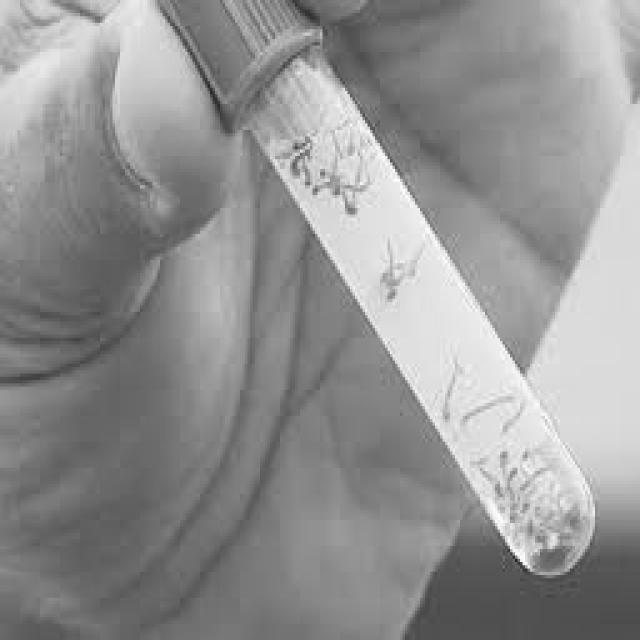larvas: (442, 363, 458, 422), (464, 399, 509, 419), (482, 468, 504, 498), (520, 467, 546, 492), (503, 404, 523, 432), (522, 449, 540, 478), (408, 241, 422, 278), (382, 264, 405, 286), (290, 138, 318, 152), (312, 182, 336, 198), (287, 156, 305, 177), (339, 175, 358, 193), (344, 195, 359, 217), (320, 160, 336, 180), (333, 128, 343, 159), (505, 468, 517, 493), (347, 131, 356, 158), (358, 173, 369, 195), (386, 288, 400, 305), (501, 450, 508, 479), (304, 164, 310, 188)
